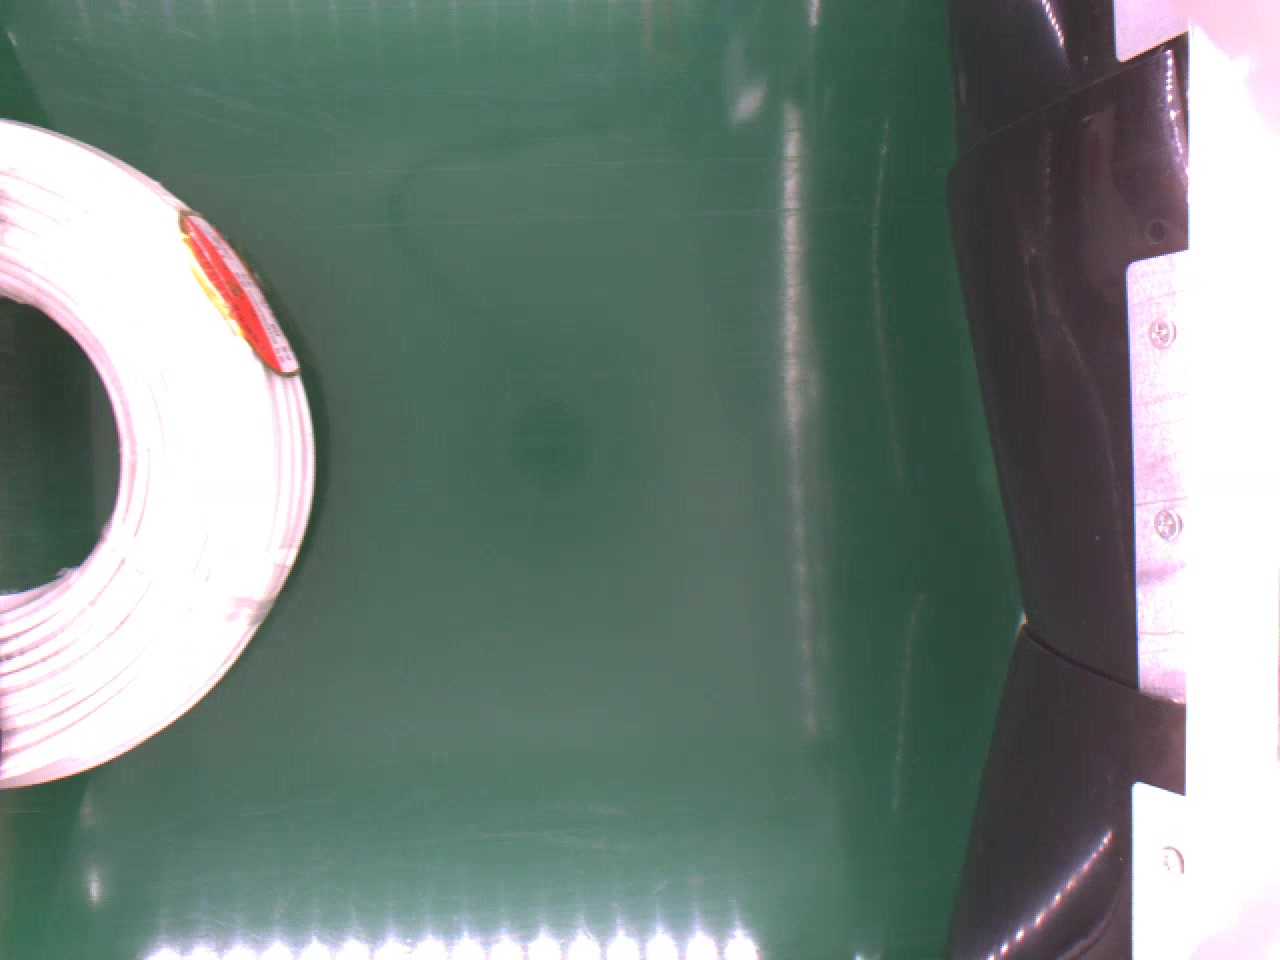white: (0, 115, 321, 789)
